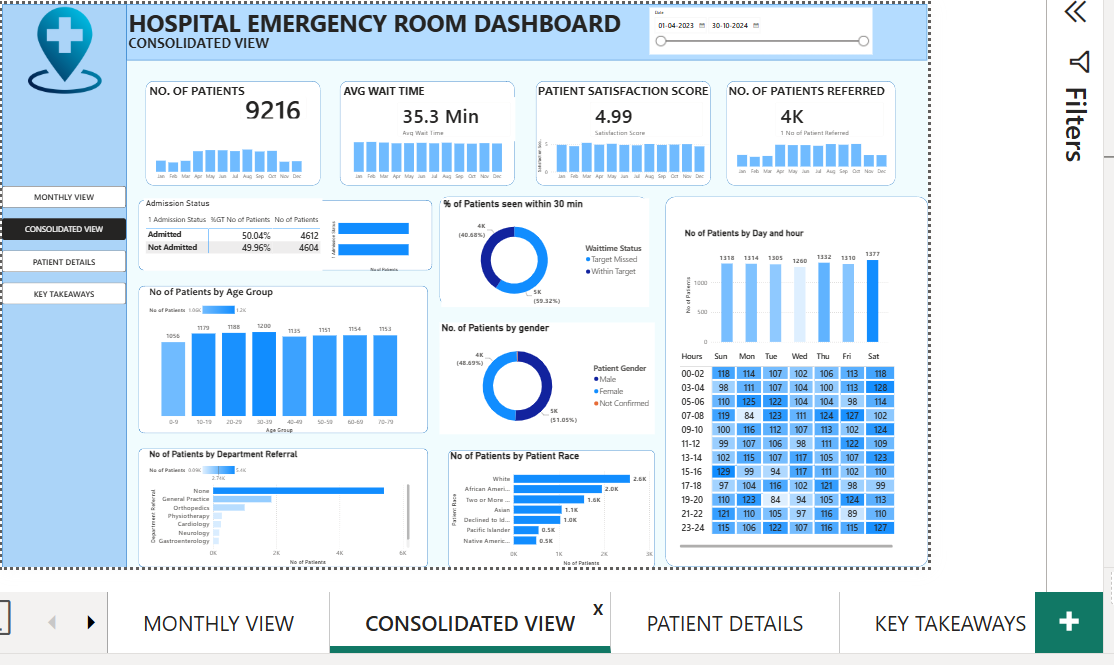

The dashboard page shown, as its layout file describes it:
{"tool":"powerbi","page":{"name":"CONSOLIDATED VIEW","canvas":[2300,1400],"ordinal":1},"visuals":[{"type":"shape","box":[355,190,435,260],"z":0},{"type":"shape","box":[0,0,310,1400],"z":1000},{"type":"shape","box":[310,0,1990,140],"z":2000},{"type":"shape","box":[840,190,435,260],"z":3000},{"type":"textbox","box":[310,0,1300,140],"z":4000},{"type":"textbox","box":[310,70,530,70],"z":5000},{"type":"cardVisual","fields":{"Data":["Hospital ER_Data.No of Patients"]},"box":[575,215,200,90],"z":6000},{"type":"slicer","fields":{"Values":["Date Table.Date"]},"box":[1610,10,553.3,116.7],"z":7000},{"type":"textbox","box":[360,190,435,70],"z":9000},{"type":"columnChart","fields":{"Y":["Hospital ER_Data.No of Patients"],"Category":["Date Table.Month Name"]},"box":[363.3,320,396.7,125],"z":10000},{"type":"shape","box":[1325,190,435,260],"z":11000},{"type":"shape","box":[1800,190,420,260],"z":12000},{"type":"textbox","box":[845,190,435,70],"z":13000},{"type":"cardVisual","fields":{"Data":["Hospital ER_Data.Avg Wait Time"]},"box":[965,225,315,120],"z":14000},{"type":"columnChart","fields":{"Category":["Date Table.Month Name"],"Y":["Avg(Hospital ER_Data.Patient Waittime)"]},"box":[856.7,320,403.3,125],"z":15000},{"type":"textbox","box":[1325,190,435,70],"z":16000},{"type":"cardVisual","fields":{"Data":["Hospital ER_Data.Satisfaction Score"]},"box":[1445,225,315,120],"z":17000},{"type":"columnChart","fields":{"Category":["Date Table.Month Name"],"Y":["Hospital ER_Data.Satisfaction Score"]},"box":[1326.7,323.3,436.7,125],"z":18000},{"type":"textbox","box":[1800,190,435,70],"z":19000},{"type":"cardVisual","fields":{"Data":["Hospital ER_Data.1 No of Patient Referred"]},"box":[1903.3,226.7,303.3,120],"z":20000},{"type":"shape","box":[340,485,730,175],"z":21000},{"type":"columnChart","fields":{"Category":["Date Table.Month Name"],"Y":["Hospital ER_Data.1 No of Patient Referred"]},"box":[1806.7,306.7,406.7,125],"z":22000},{"type":"pivotTable","title":"Admission Status","fields":{"Rows":["Hospital ER_Data.1 Admission Status"],"Values":["Hospital ER_Data.No of Patients","Hospital ER_Data.No of Patients1"]},"box":[350,484.6,444.2,180.8],"z":23000},{"type":"barChart","fields":{"Category":["Hospital ER_Data.1 Admission Status"],"Y":["Hospital ER_Data.No of Patients"]},"box":[815,505,255,165],"z":24000},{"type":"shape","box":[338.1,700,719,366.7],"z":25000},{"type":"clusteredColumnChart","fields":{"Category":["Hospital ER_Data.Age Group"],"Y":["Hospital ER_Data.No of Patients"]},"box":[361.9,700,657.1,371.4],"z":26000},{"type":"shape","box":[338.1,1104.8,719,295.2],"z":27000},{"type":"clusteredBarChart","fields":{"Category":["Hospital ER_Data.Department Referral"],"Y":["Hospital ER_Data.No of Patients"]},"box":[361.9,1104.8,657.1,295.2],"z":28000},{"type":"shape","box":[1086.7,480,516.7,270],"z":29000},{"type":"donutChart","title":"% of Patients seen within 30 min","fields":{"Category":["Hospital ER_Data.Waittime Status"],"Y":["Hospital ER_Data.No of Patients"]},"box":[1093.3,483.3,516.7,270],"z":30000},{"type":"donutChart","title":"No. of Patients by gender","fields":{"Y":["Hospital ER_Data.No of Patients"],"Category":["Hospital ER_Data.Patient Gender"]},"box":[1086.7,790,535,277.5],"z":31000},{"type":"shape","box":[1110,1106.7,513.3,293.3],"z":32000},{"type":"clusteredBarChart","fields":{"Y":["Hospital ER_Data.No of Patients"],"Category":["Hospital ER_Data.Patient Race"]},"box":[1110,1106.7,513.3,293.3],"z":33000},{"type":"shape","box":[1646.7,480,653.3,920],"z":34000},{"type":"pivotTable","fields":{"Rows":["Hospital ER_Data.Waittime Interval"],"Columns":["Date Table.Day Name"],"Values":["Hospital ER_Data.No of Patients"]},"box":[1676.7,856.7,543.3,500],"z":35000},{"type":"columnChart","title":"No of Patients by Day and hour","fields":{"Category":["Date Table.Day Name"],"Y":["Hospital ER_Data.No of Patients"]},"box":[1690,556.7,516.7,300],"z":36000},{"type":"image","box":[46.7,0,216.7,230],"z":37000},{"type":"pageNavigator","box":[0,450,308.3,295.8],"z":37001}]}

Visuals, with their boxes on the page's 2300x1400 design canvas (x1, y1, x2, y2). These are canvas units, not pixel positions in the 1114x665 screenshot, which may show the page scaled, cropped or inside an application window:
shape: 355/190/790/450
shape: 0/0/310/1400
shape: 310/0/2300/140
shape: 840/190/1275/450
textbox: 310/0/1610/140
textbox: 310/70/840/140
cardVisual - Hospital ER_Data.No of Patients: 575/215/775/305
slicer - Date Table.Date: 1610/10/2163/127
textbox: 360/190/795/260
columnChart - Hospital ER_Data.No of Patients x Date Table.Month Name: 363/320/760/445
shape: 1325/190/1760/450
shape: 1800/190/2220/450
textbox: 845/190/1280/260
cardVisual - Hospital ER_Data.Avg Wait Time: 965/225/1280/345
columnChart - Date Table.Month Name x Avg(Hospital ER_Data.Patient Waittime): 857/320/1260/445
textbox: 1325/190/1760/260
cardVisual - Hospital ER_Data.Satisfaction Score: 1445/225/1760/345
columnChart - Date Table.Month Name x Hospital ER_Data.Satisfaction Score: 1327/323/1763/448
textbox: 1800/190/2235/260
cardVisual - Hospital ER_Data.1 No of Patient Referred: 1903/227/2207/347
shape: 340/485/1070/660
columnChart - Date Table.Month Name x Hospital ER_Data.1 No of Patient Referred: 1807/307/2213/432
"Admission Status" pivotTable: 350/485/794/665
barChart - Hospital ER_Data.1 Admission Status x Hospital ER_Data.No of Patients: 815/505/1070/670
shape: 338/700/1057/1067
clusteredColumnChart - Hospital ER_Data.Age Group x Hospital ER_Data.No of Patients: 362/700/1019/1071
shape: 338/1105/1057/1400
clusteredBarChart - Hospital ER_Data.Department Referral x Hospital ER_Data.No of Patients: 362/1105/1019/1400
shape: 1087/480/1603/750
"% of Patients seen within 30 min" donutChart: 1093/483/1610/753
"No. of Patients by gender" donutChart: 1087/790/1622/1068
shape: 1110/1107/1623/1400
clusteredBarChart - Hospital ER_Data.No of Patients x Hospital ER_Data.Patient Race: 1110/1107/1623/1400
shape: 1647/480/2300/1400
pivotTable - Hospital ER_Data.Waittime Interval x Date Table.Day Name: 1677/857/2220/1357
"No of Patients by Day and hour" columnChart: 1690/557/2207/857
image: 47/0/263/230
pageNavigator: 0/450/308/746
